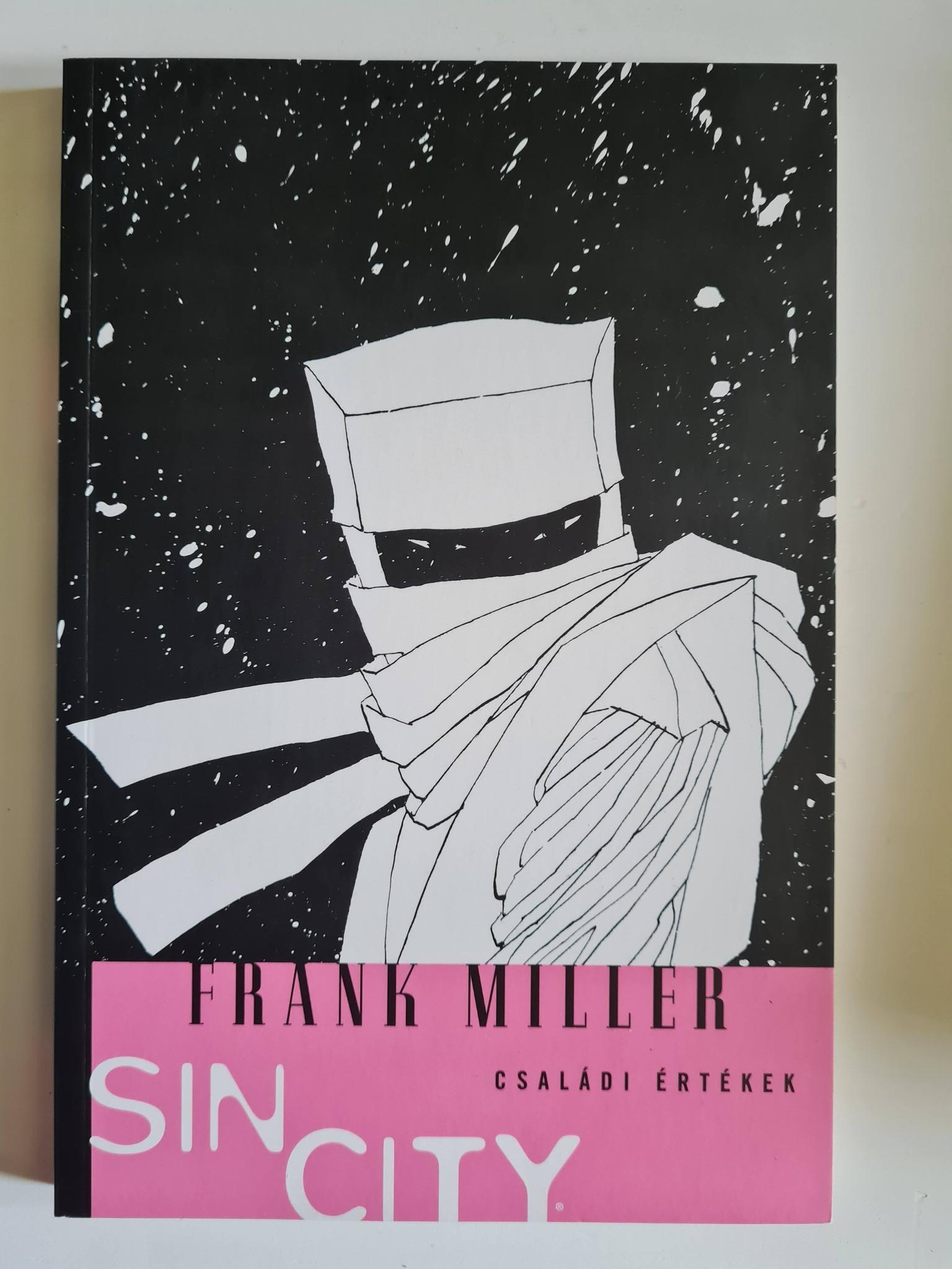comic: (56, 60, 836, 1222)
